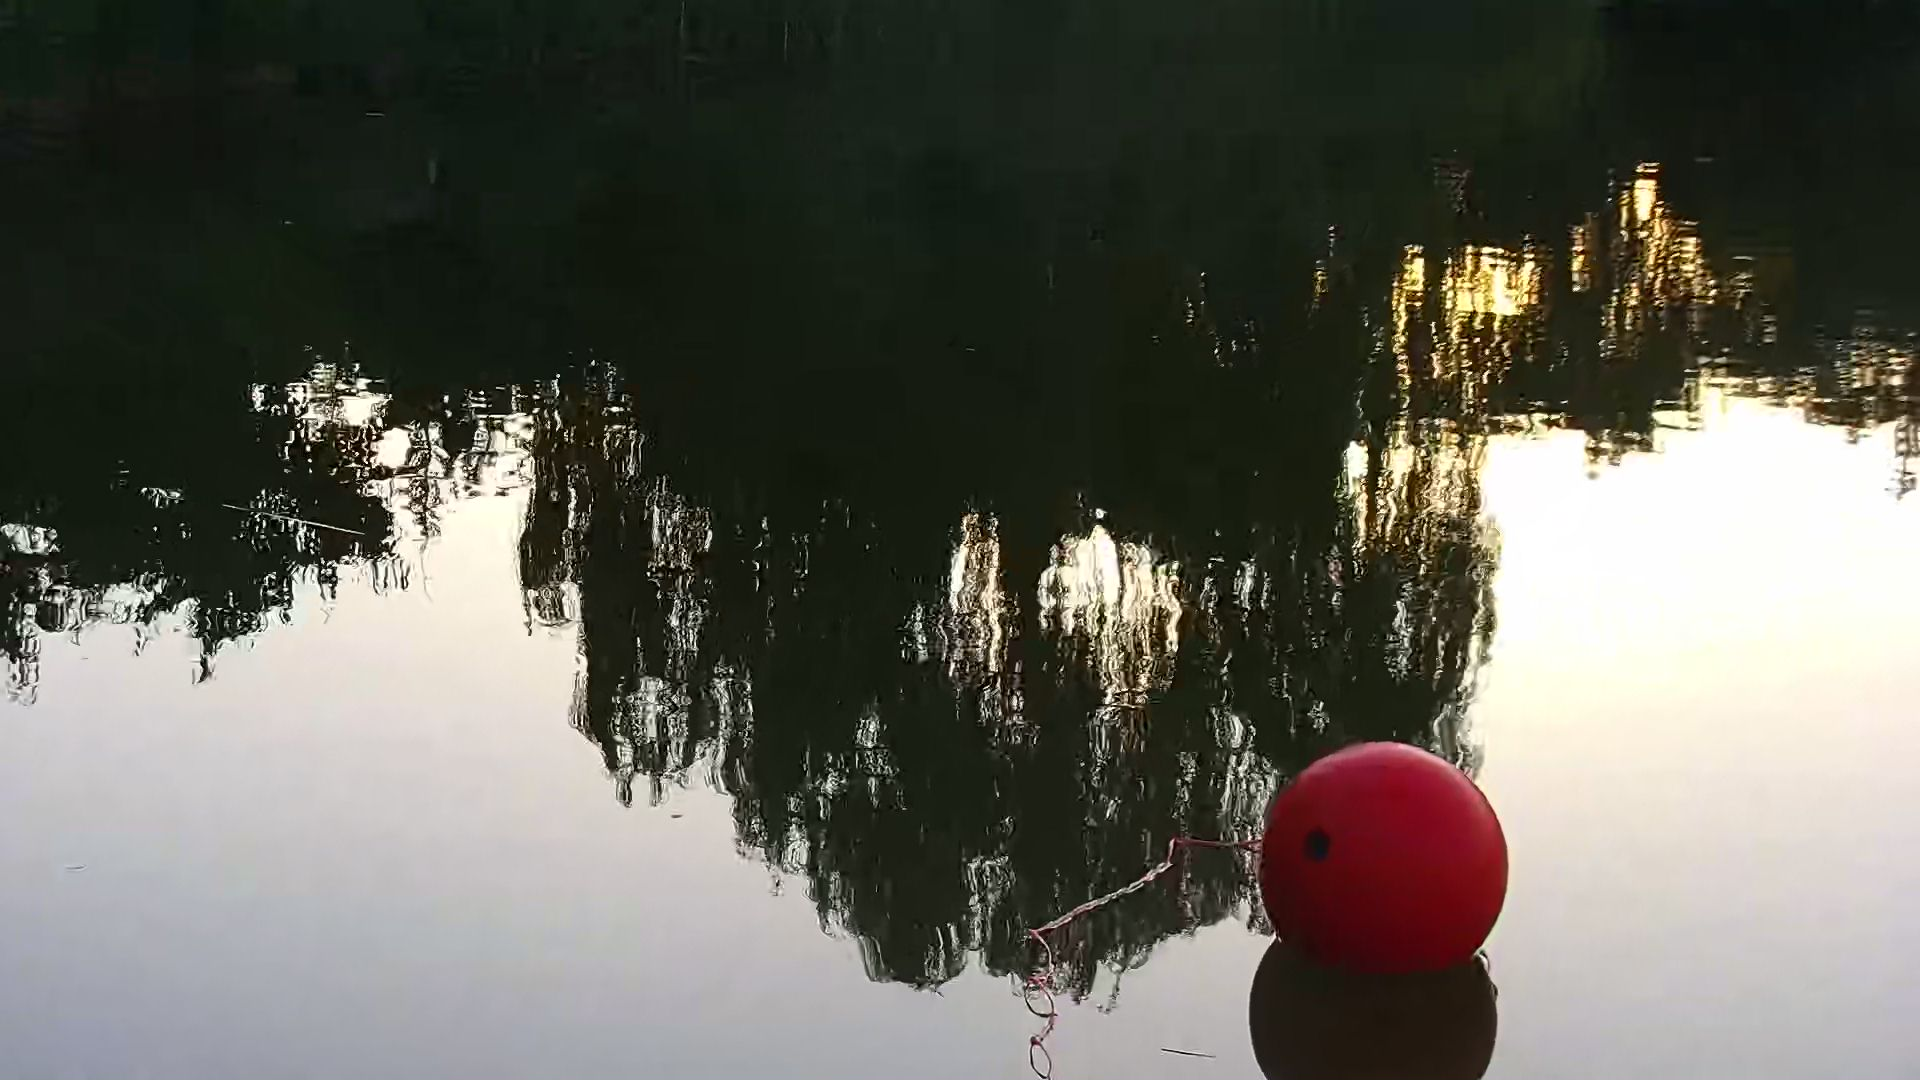rubbish: (1244, 741, 1505, 980)
